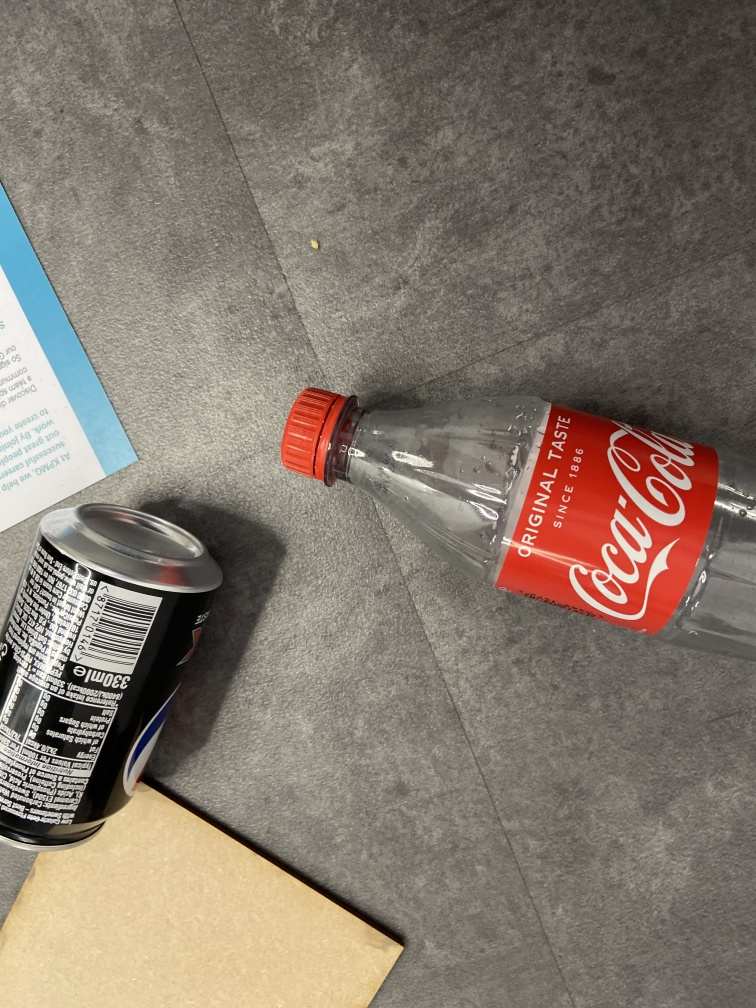bottle_red: (279, 380, 756, 663)
can_black: (1, 499, 226, 856)
